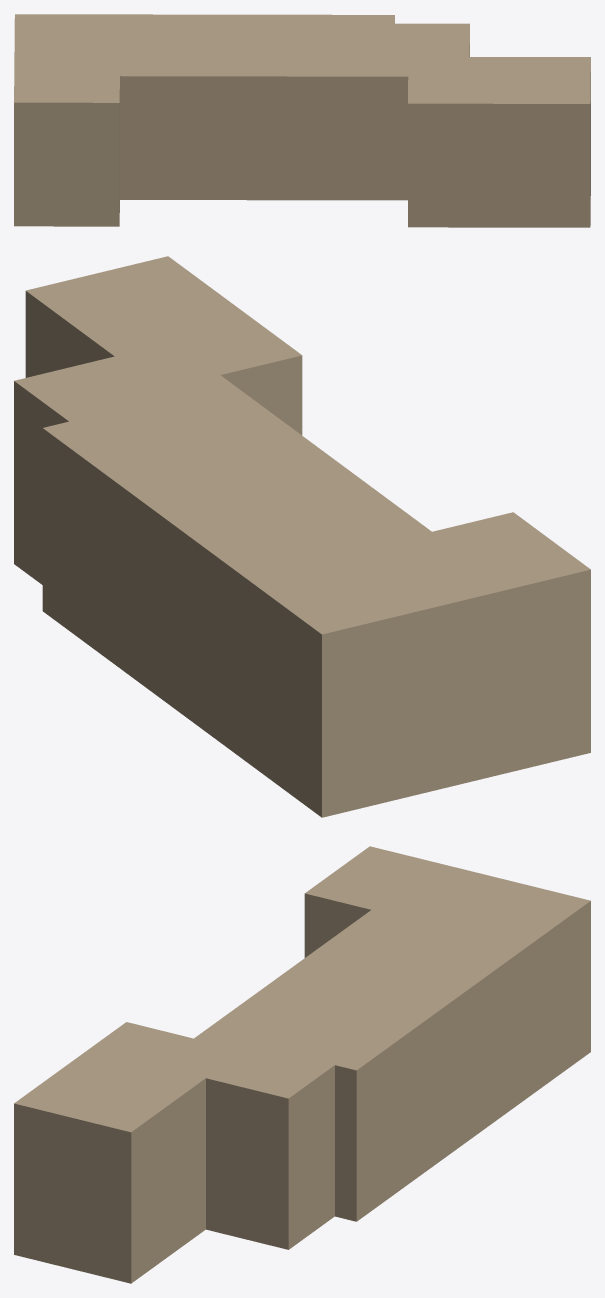
Rendered from bld_99549130.dae.
The picture shows the model from 3 angles, top to bottom: view 1: azimuth 30°, elevation 25°; view 2: azimuth 150°, elevation 25°; view 3: azimuth 270°, elevation 25°; orthographic projection. The views are drawn at different scales.
Parts seen in each view (by area): view 1: bld_99549130; view 2: bld_99549130; view 3: bld_99549130.
Part boxes in pixels (x1,y1,x2,y2): bld_99549130: (14,14,590,227); bld_99549130: (14,256,590,817); bld_99549130: (14,846,590,1283).
Size of the model in its own units: 32.43 by 27.64 by 8.
